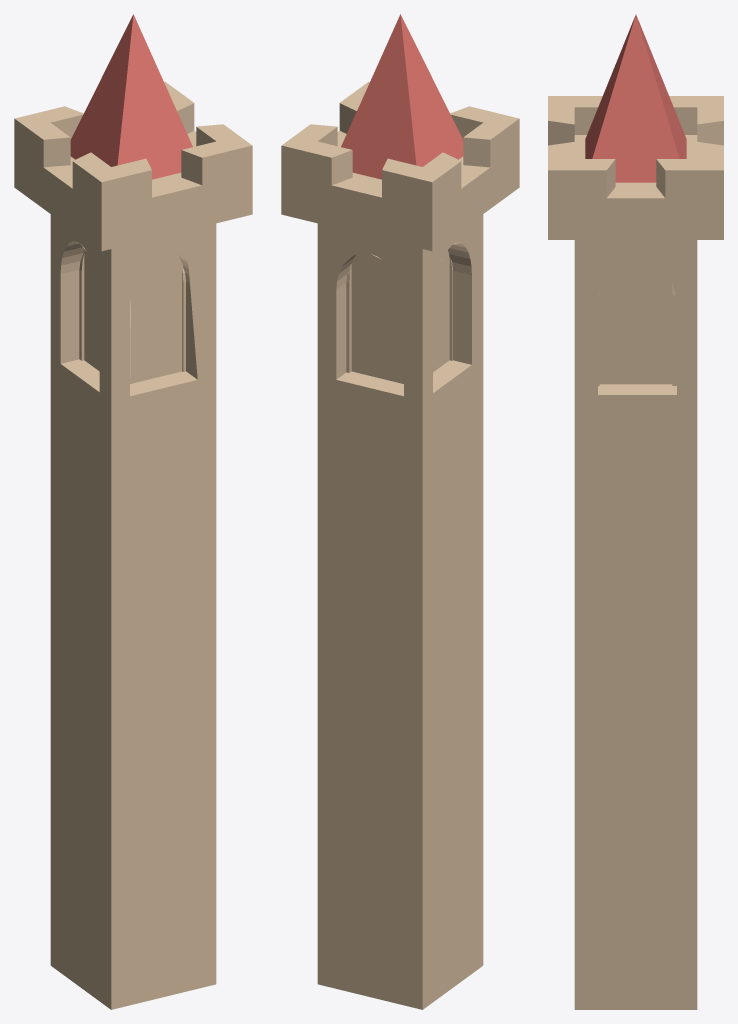
The model's file is BACK1 1.fbx.
3 views of the same model, side by side, from view 1: azimuth 30°, elevation 25°; view 2: azimuth 150°, elevation 25°; view 3: azimuth 270°, elevation 25° (orthographic).
Visible parts, largest first — view 1: Cube; view 2: Cube; view 3: Cube.
Boxes of the visible parts, x1,y1,x2,y2 form: Cube: (14, 14, 252, 1009); Cube: (281, 14, 519, 1009); Cube: (548, 14, 723, 1009).
Size of the model in its own units: 287 by 1746 by 287.
